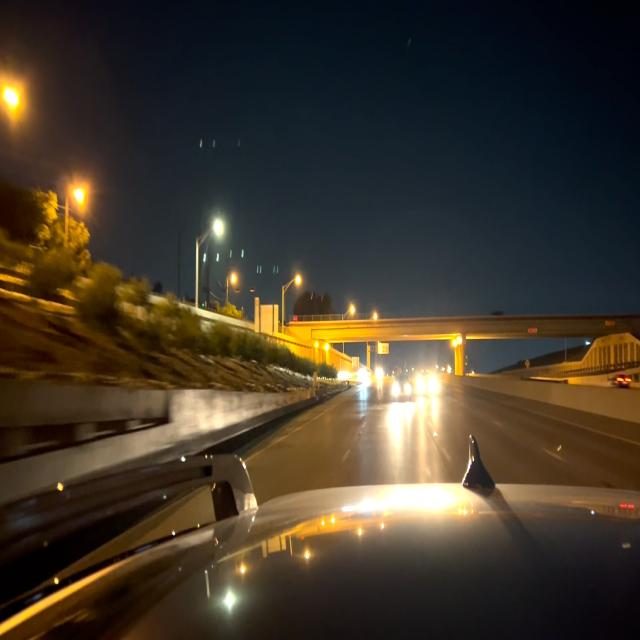back-of-sign: (255, 305, 279, 333)
